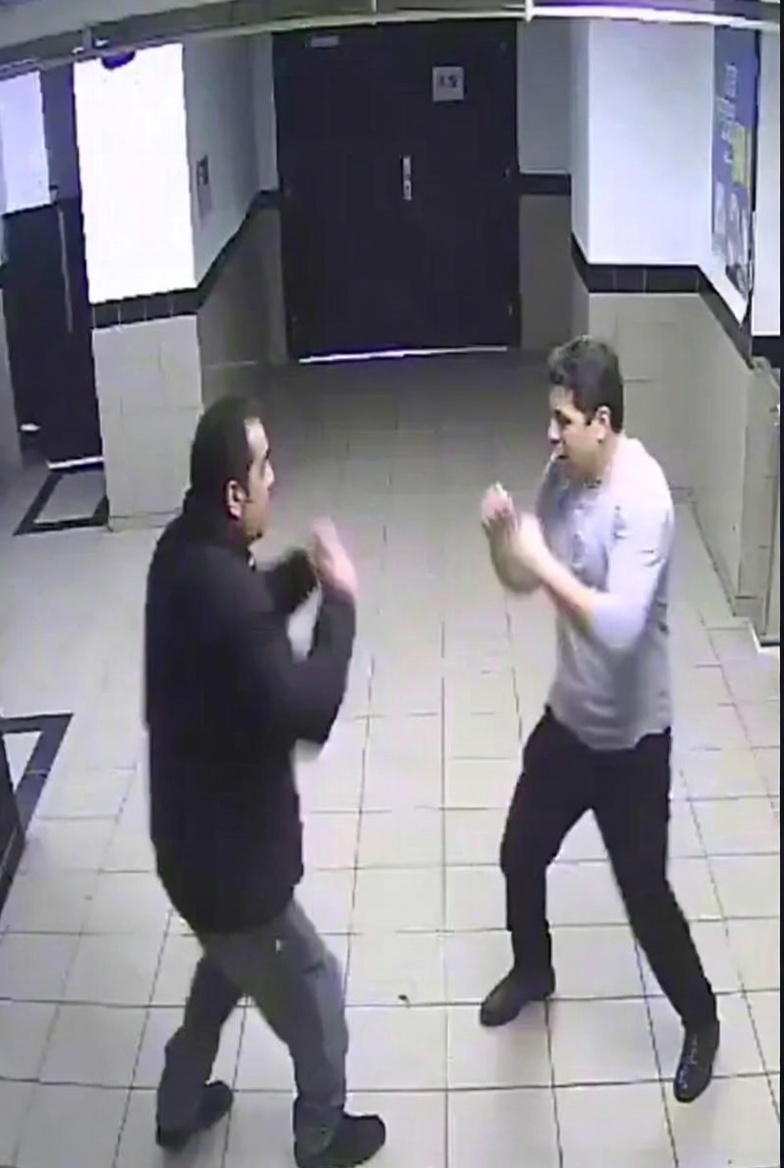Assault: (143, 395, 391, 1168)
Fighting: (475, 335, 724, 1105)
